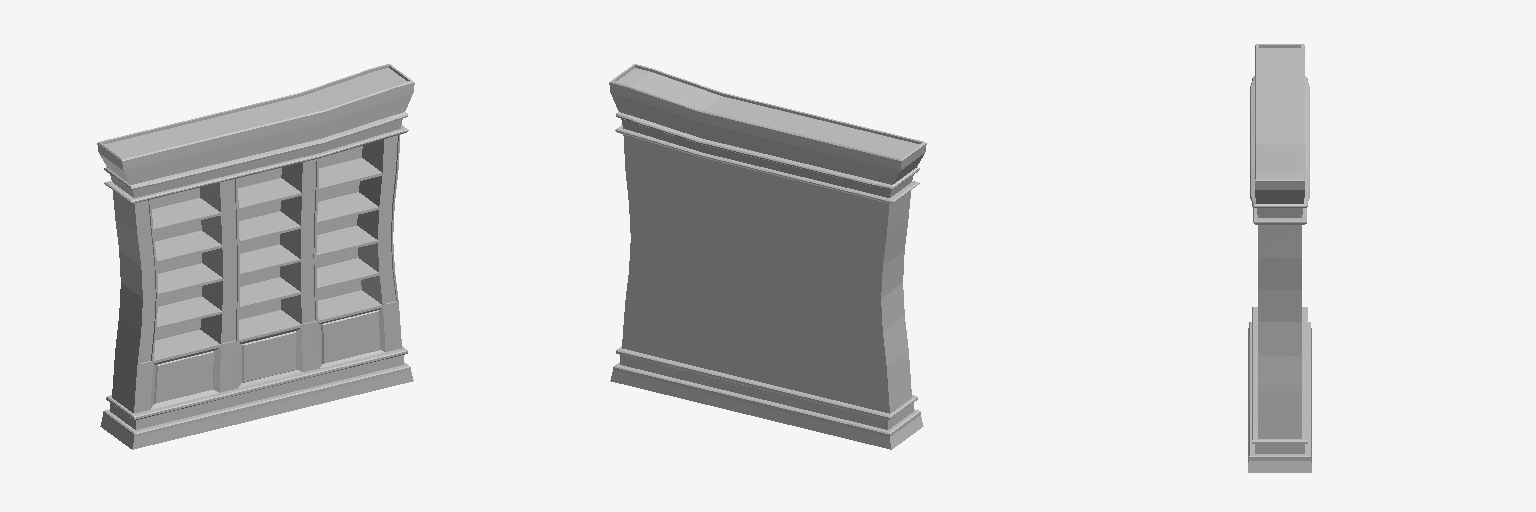
The model's file is Bookshelf_LP.obj.
3 renders of one model, left to right at view 1: azimuth 30°, elevation 25°; view 2: azimuth 150°, elevation 25°; view 3: azimuth 270°, elevation 25°, orthographic.
Visible parts, largest first — view 1: Big_bookcase_low; view 2: Big_bookcase_low; view 3: Big_bookcase_low.
Boxes of the visible parts, <box> form: Big_bookcase_low: <box>97,64,414,449</box>; Big_bookcase_low: <box>609,64,926,449</box>; Big_bookcase_low: <box>1248,44,1311,472</box>.
Size of the model in its own units: 10.91 by 10.55 by 2.06.